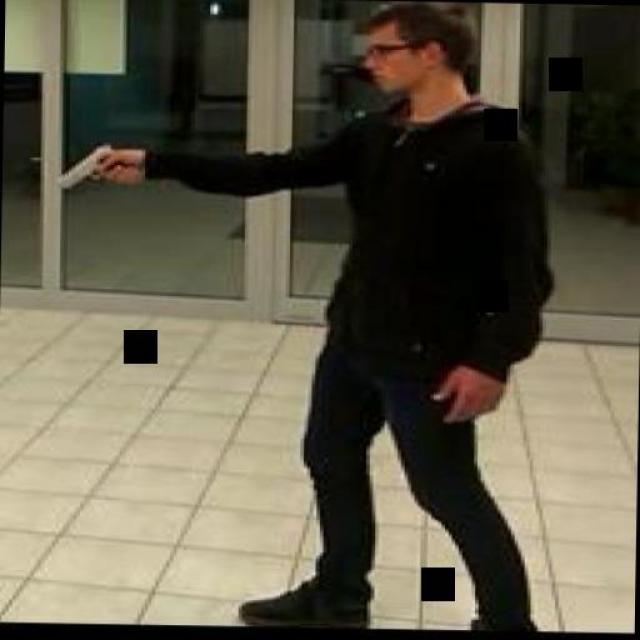gun: (47, 138, 135, 192)
